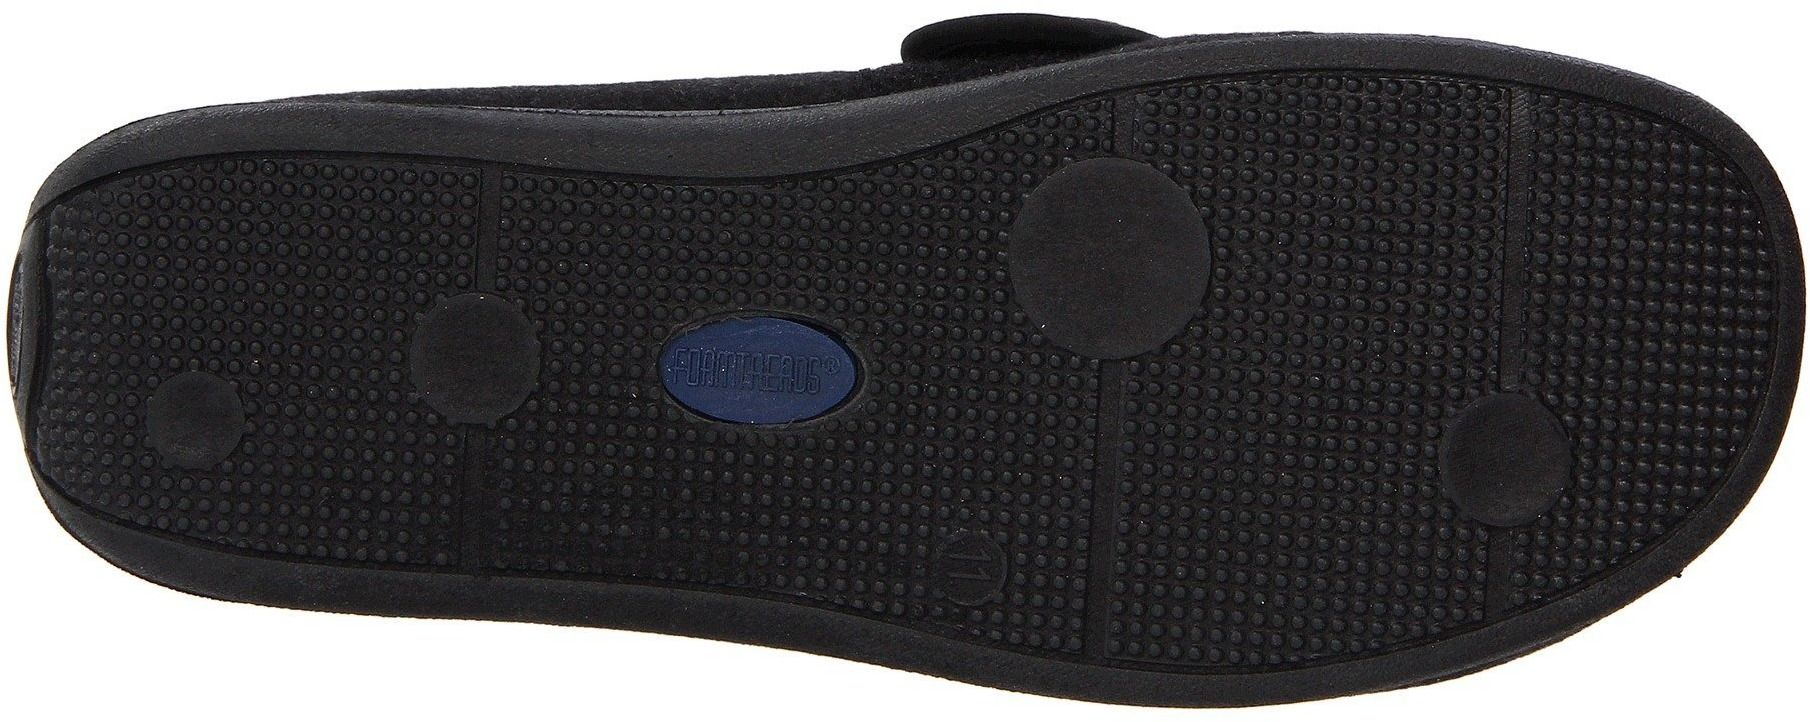circle: (1211, 119, 1483, 385), (1134, 427, 1379, 662), (1525, 148, 1750, 382), (1001, 146, 1209, 369), (664, 268, 865, 457), (210, 189, 401, 375), (1424, 388, 1578, 544), (404, 286, 549, 431), (872, 180, 1003, 314), (137, 353, 259, 475), (421, 453, 533, 565), (427, 166, 538, 263), (932, 518, 1018, 613)
line: (421, 453, 533, 565), (427, 166, 538, 263)
other: (881, 362, 1039, 512), (1581, 386, 1710, 522), (270, 407, 401, 527), (538, 442, 652, 570), (541, 191, 656, 304)
text: (664, 268, 865, 457), (676, 315, 827, 431), (932, 518, 1018, 613), (934, 534, 1005, 598)
